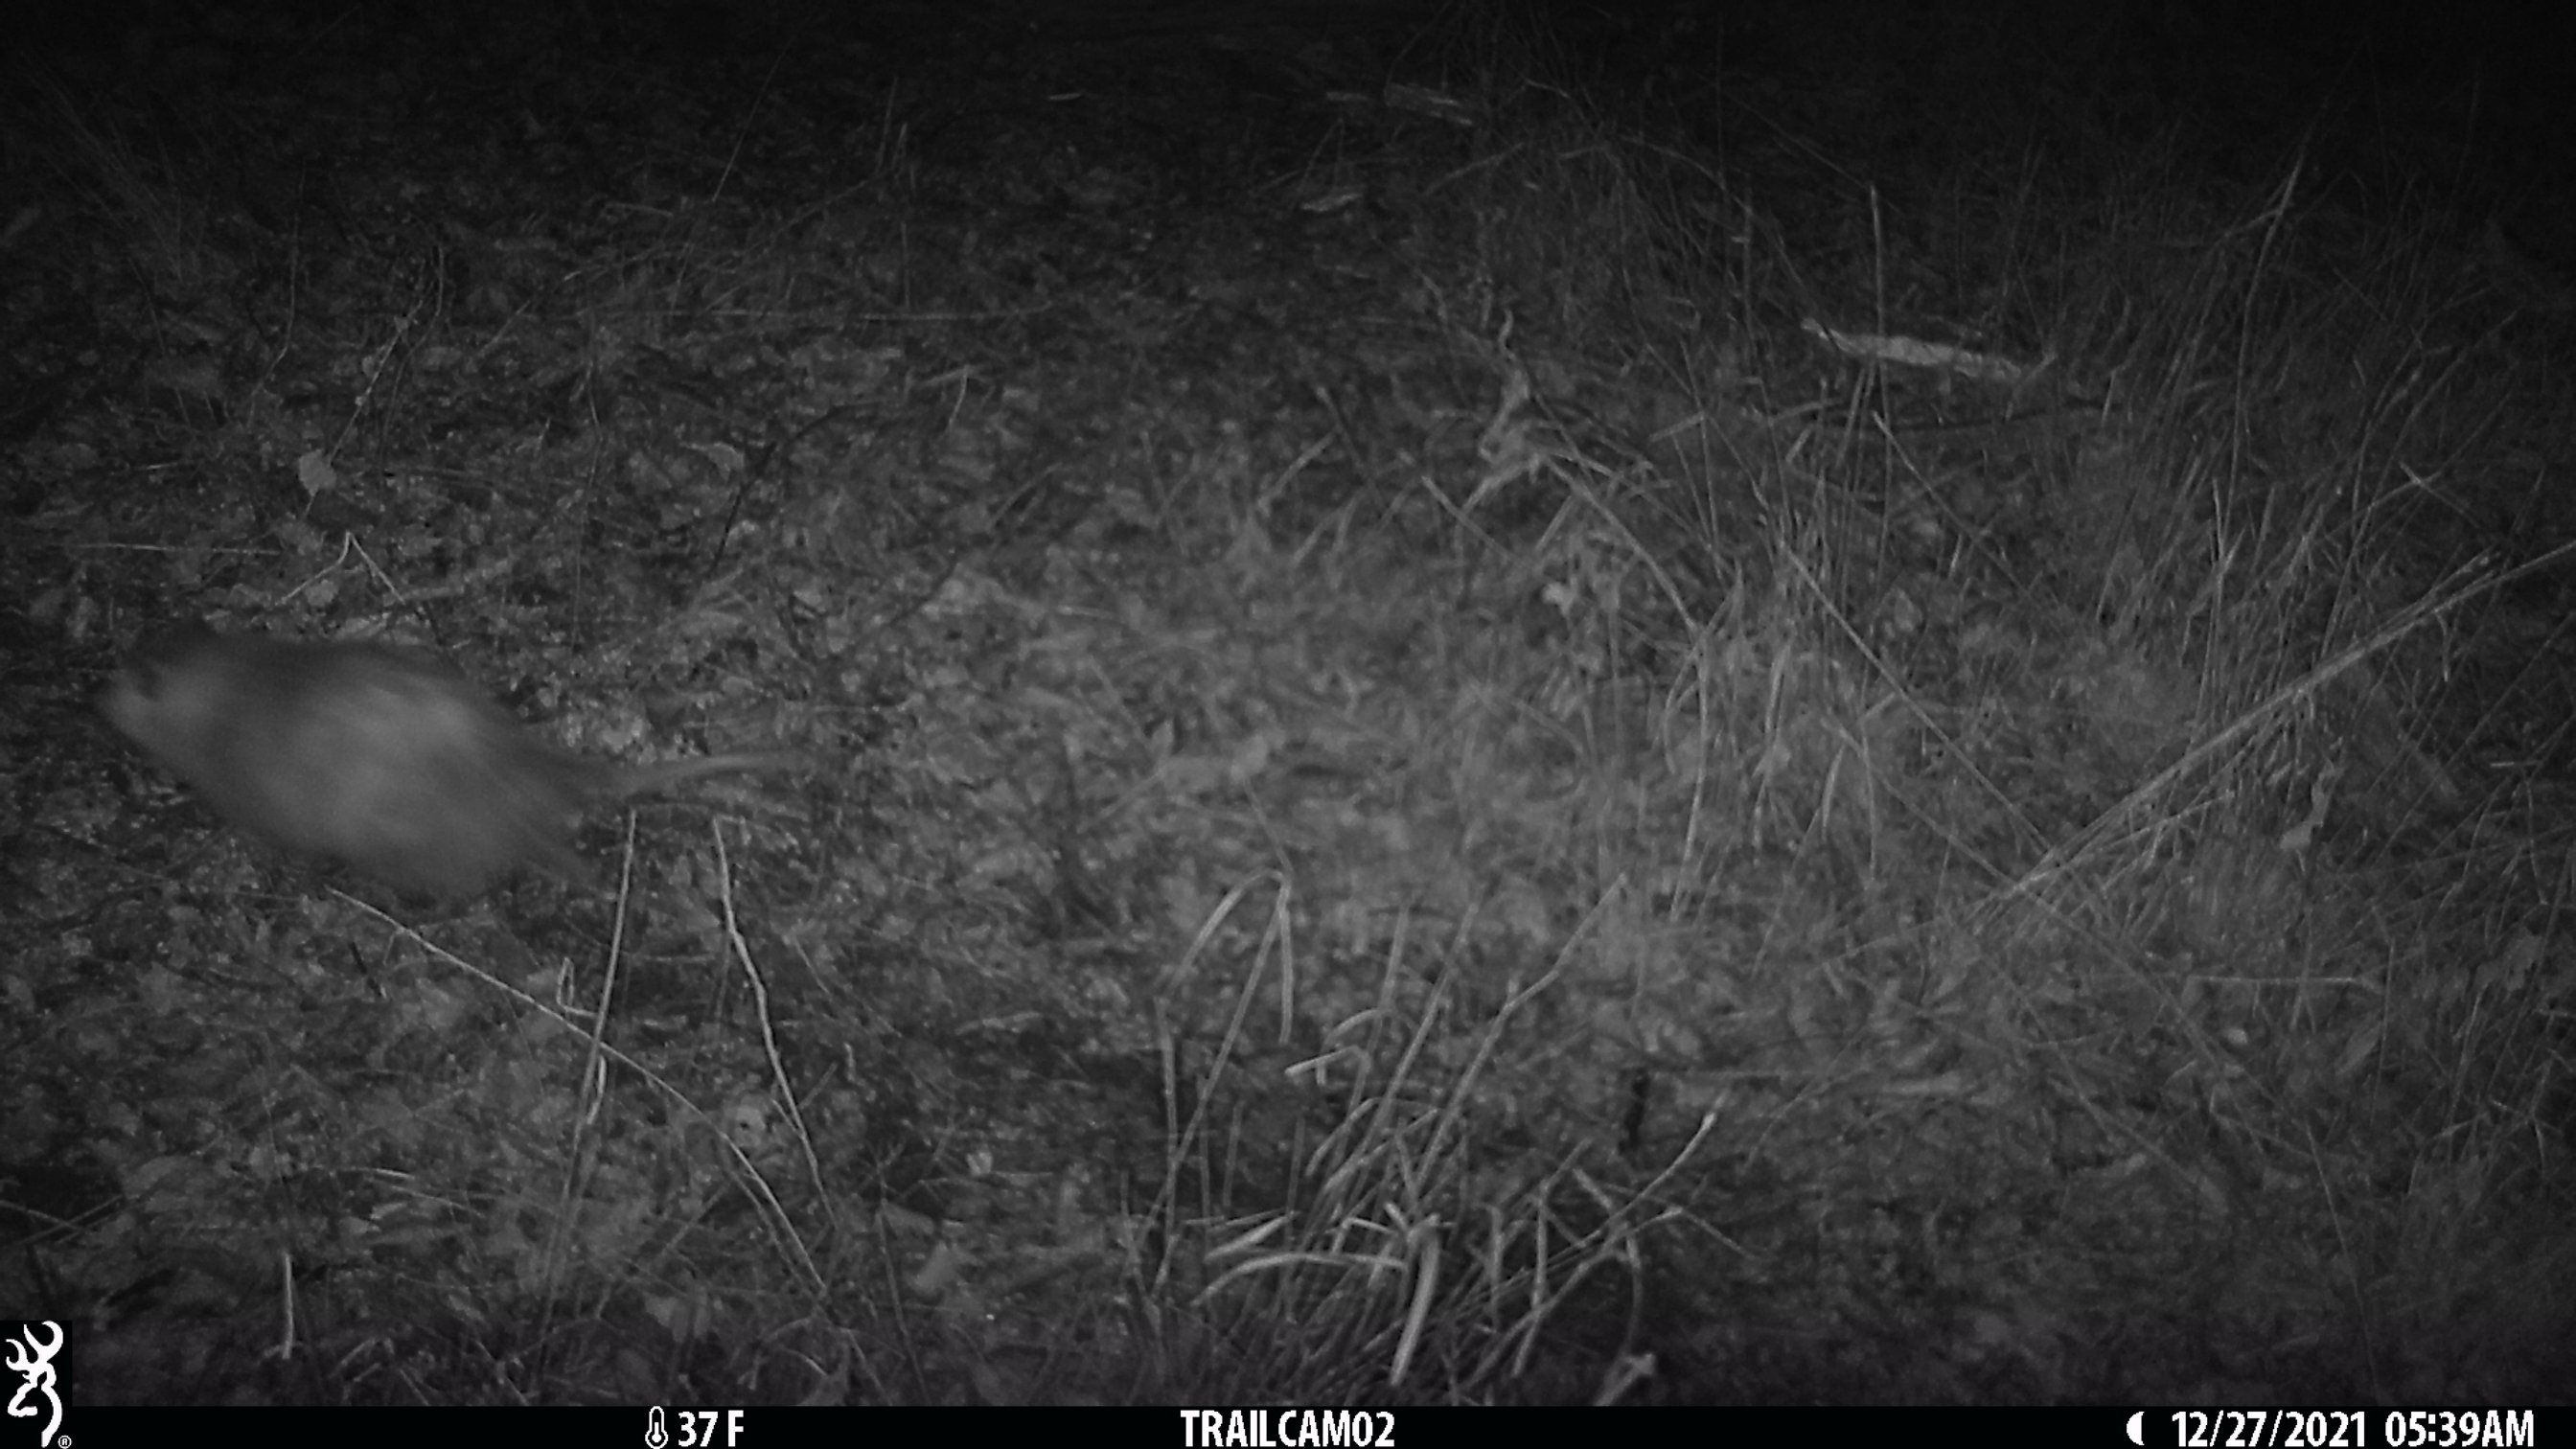Possum: (87, 596, 801, 911)
